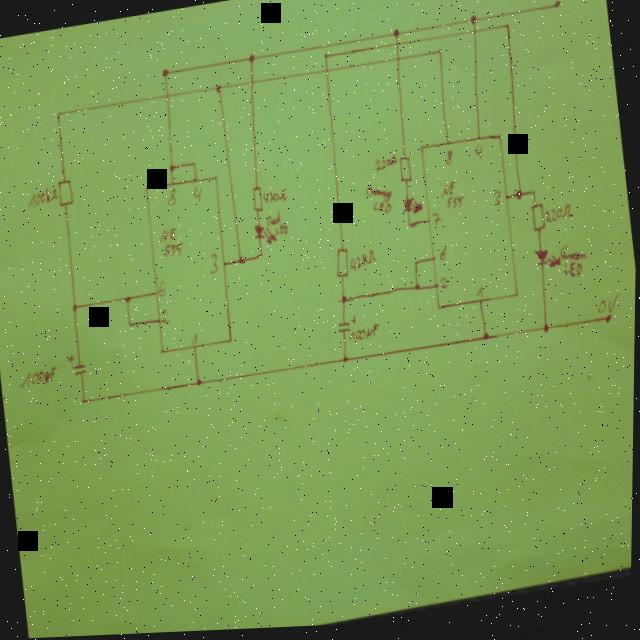capacitor: (66, 350, 87, 377), (333, 315, 356, 334)
crossover: (246, 78, 255, 87), (321, 67, 330, 76), (162, 91, 169, 100), (469, 29, 476, 38), (393, 56, 400, 65), (392, 42, 399, 50)
diode: (533, 249, 561, 275), (252, 221, 277, 248), (400, 198, 422, 218)
junction: (513, 191, 523, 204), (213, 83, 222, 94), (160, 67, 169, 78), (390, 30, 399, 41), (70, 302, 79, 313), (122, 293, 131, 304), (541, 326, 549, 338), (194, 378, 203, 388), (79, 395, 88, 405), (481, 334, 490, 344), (339, 295, 347, 306), (236, 255, 244, 266), (246, 54, 254, 65), (468, 17, 476, 28), (53, 107, 60, 119), (405, 222, 413, 232), (167, 163, 174, 173), (320, 53, 328, 61), (501, 24, 509, 32), (528, 191, 536, 199), (341, 356, 348, 365), (435, 49, 442, 58), (126, 319, 133, 328), (413, 285, 420, 294), (411, 261, 418, 270), (189, 159, 196, 167), (257, 251, 262, 258)
resistor: (332, 248, 350, 281), (55, 175, 73, 207), (528, 204, 546, 236), (396, 156, 412, 187), (248, 185, 262, 213)
terminal: (603, 317, 613, 328), (551, 3, 560, 12)
text: (557, 245, 588, 283), (362, 184, 395, 219), (17, 364, 59, 389), (437, 181, 465, 213), (156, 225, 182, 259), (24, 184, 58, 209), (347, 250, 377, 274), (346, 324, 380, 345), (265, 210, 288, 239), (542, 206, 573, 226), (595, 297, 621, 319), (372, 156, 397, 174), (261, 189, 286, 205), (206, 252, 219, 276), (489, 191, 501, 211), (164, 187, 176, 206), (154, 280, 167, 297), (472, 145, 484, 162), (158, 307, 169, 325), (436, 248, 448, 264), (442, 151, 453, 168), (191, 185, 201, 203), (429, 213, 441, 228), (438, 278, 448, 293), (188, 332, 198, 345), (546, 0, 578, 4), (475, 289, 483, 302)
